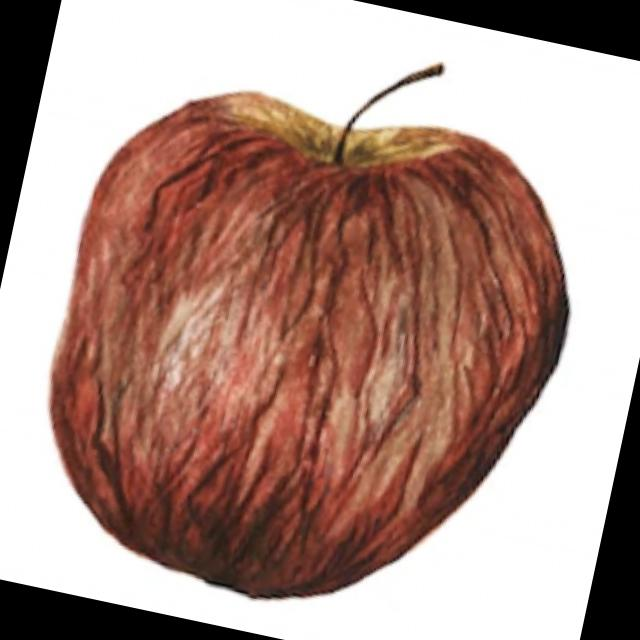rotten_apple: (5, 39, 607, 640)
